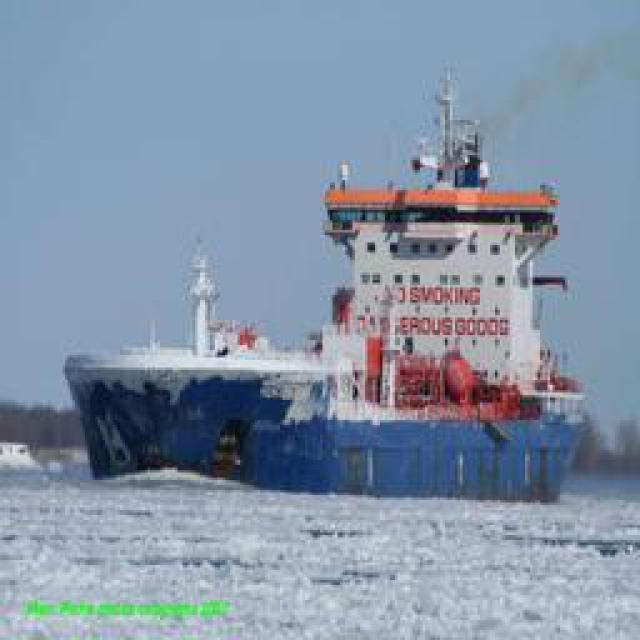Ship: (121, 49, 596, 504)
